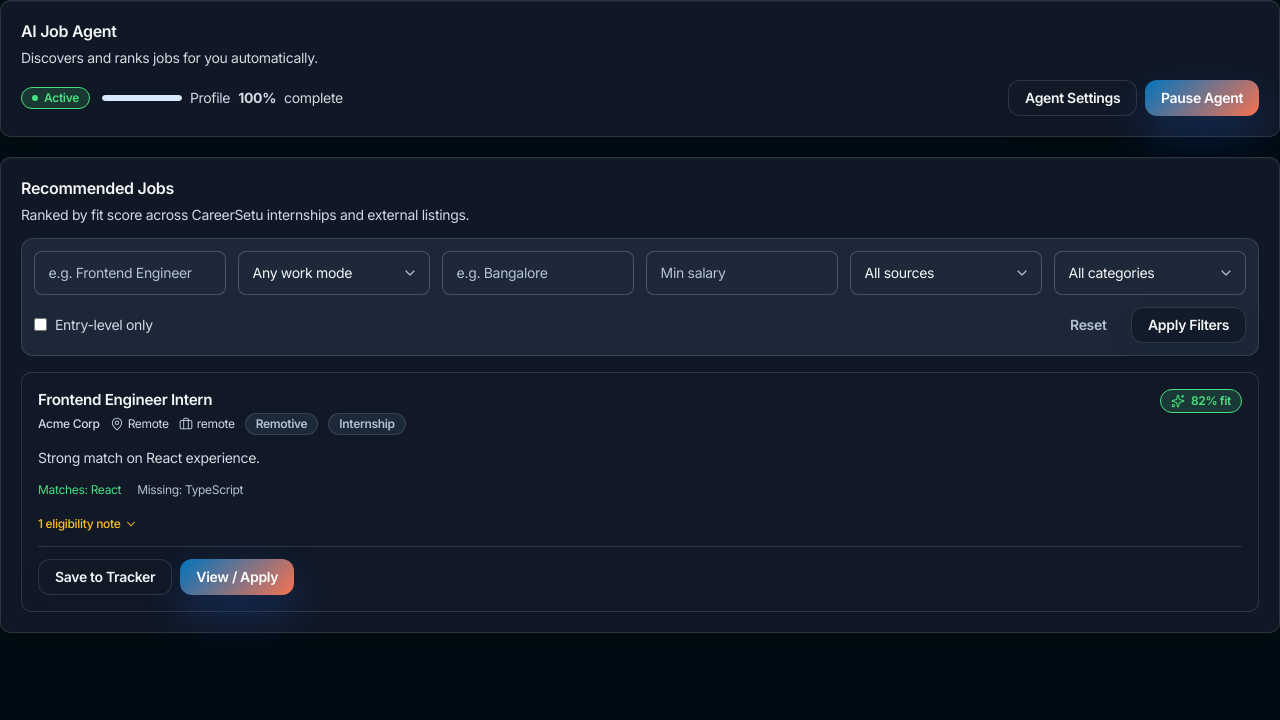
Test: JobAgentDashboardPage › multi-source filters and provider health › eligibility concerns are collapsed by default and expand on click, without hiding matched/missing skills or the explanation
The width and height of the screenshot is (1280, 720).
Expected: the text "Frontend Engineer Intern" is shown, [38,390,212,409]
Expected: the text "Matches: React" is shown, [38,482,121,498]
Click the button "1 eligibility note": (88, 524) [38,516,138,532]
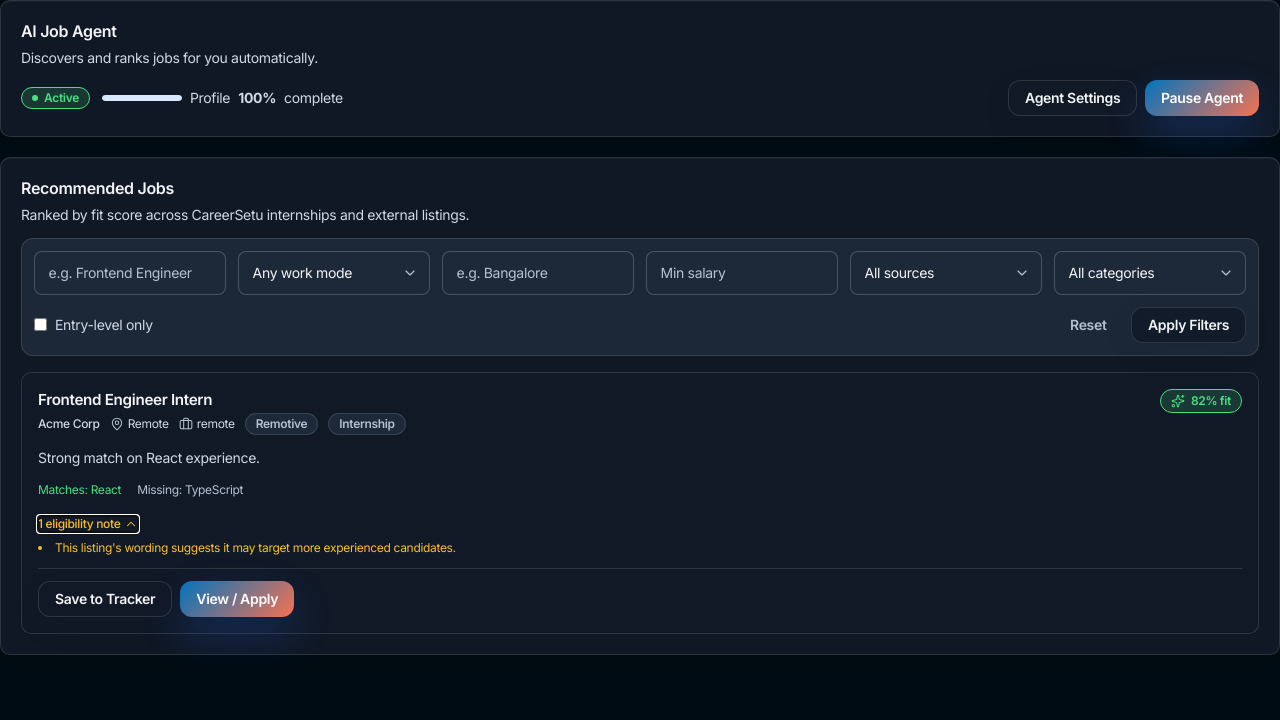
Expected: the list item "wording suggests" is shown, [55,540,456,555]
